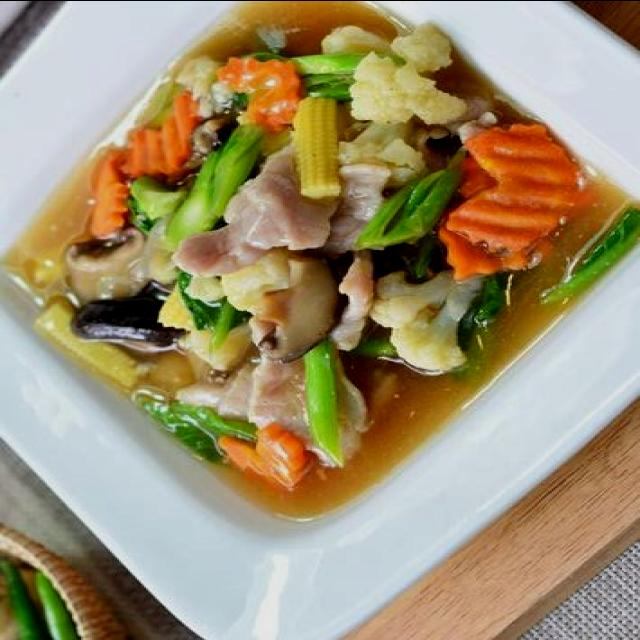capcay: (7, 0, 640, 530)
